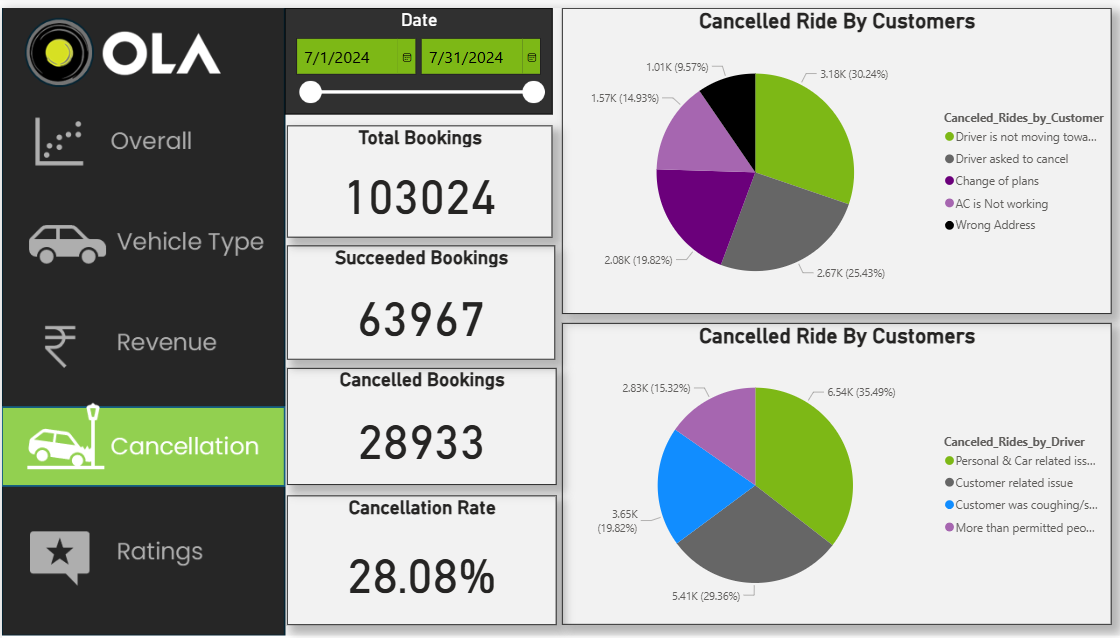

This screenshot's page, from the dashboard's own definition file:
{"tool":"powerbi","page":{"name":"Cancellation","canvas":[1280,720],"ordinal":3},"visuals":[{"type":"actionButton","box":[0,103.8,322.8,116.6],"z":0},{"type":"actionButton","box":[0,204.6,323.1,116.9],"z":1000},{"type":"actionButton","box":[0,337.1,322.8,116.6],"z":2000},{"type":"actionButton","box":[0,544.7,322.8,174.9],"z":3000},{"type":"pieChart","title":"Cancelled Ride By Customers","fields":{"Category":["Bookings (2).Canceled_Rides_by_Customer"],"Y":["CountNonNull(Bookings (2).Canceled_Rides_by_Customer)"]},"box":[640,0,627.7,349.2],"z":4000},{"type":"pieChart","title":"Cancelled Ride By Customers","fields":{"Category":["Bookings (2).Canceled_Rides_by_Driver"],"Y":["CountNonNull(Bookings (2).Canceled_Rides_by_Driver)"]},"box":[640,360,627.7,344.6],"z":5000},{"type":"slicer","title":"Date","fields":{"Values":["Bookings (2).Date"]},"box":[323.1,0,306.2,121.5],"z":6000},{"type":"card","title":"Total Bookings","fields":{"Values":["Count(Bookings (2).Booking_ID)"]},"box":[326.2,133.8,303.1,127.7],"z":7000},{"type":"card","title":"Succeeded Bookings","fields":{"Values":["CountNonNull(Bookings (2).Booking_Status)"]},"box":[326.2,270.8,306.2,130.8],"z":8000},{"type":"card","title":"Cancelled Bookings","fields":{"Values":["CountNonNull(Bookings (2).Booking_Status)"]},"box":[326.2,410.8,307.7,133.8],"z":9000},{"type":"card","title":"Cancellation Rate","fields":{"Values":["Bookings (2).CancelledPercentage"]},"box":[326.2,556.9,307.7,147.7],"z":10000}]}

Visuals, with their boxes in screenshot pixels (x1, y1, x2, y2), scaled from the page's 1280x720 canvas onto the 1120x638 screenshot:
actionButton: <bbox>0, 92, 282, 195</bbox>
actionButton: <bbox>0, 181, 283, 285</bbox>
actionButton: <bbox>0, 299, 282, 402</bbox>
actionButton: <bbox>0, 483, 282, 637</bbox>
"Cancelled Ride By Customers" pieChart: <bbox>560, 0, 1109, 309</bbox>
"Cancelled Ride By Customers" pieChart: <bbox>560, 319, 1109, 624</bbox>
"Date" slicer: <bbox>283, 0, 551, 108</bbox>
"Total Bookings" card: <bbox>285, 119, 551, 232</bbox>
"Succeeded Bookings" card: <bbox>285, 240, 553, 356</bbox>
"Cancelled Bookings" card: <bbox>285, 364, 555, 483</bbox>
"Cancellation Rate" card: <bbox>285, 493, 555, 624</bbox>
